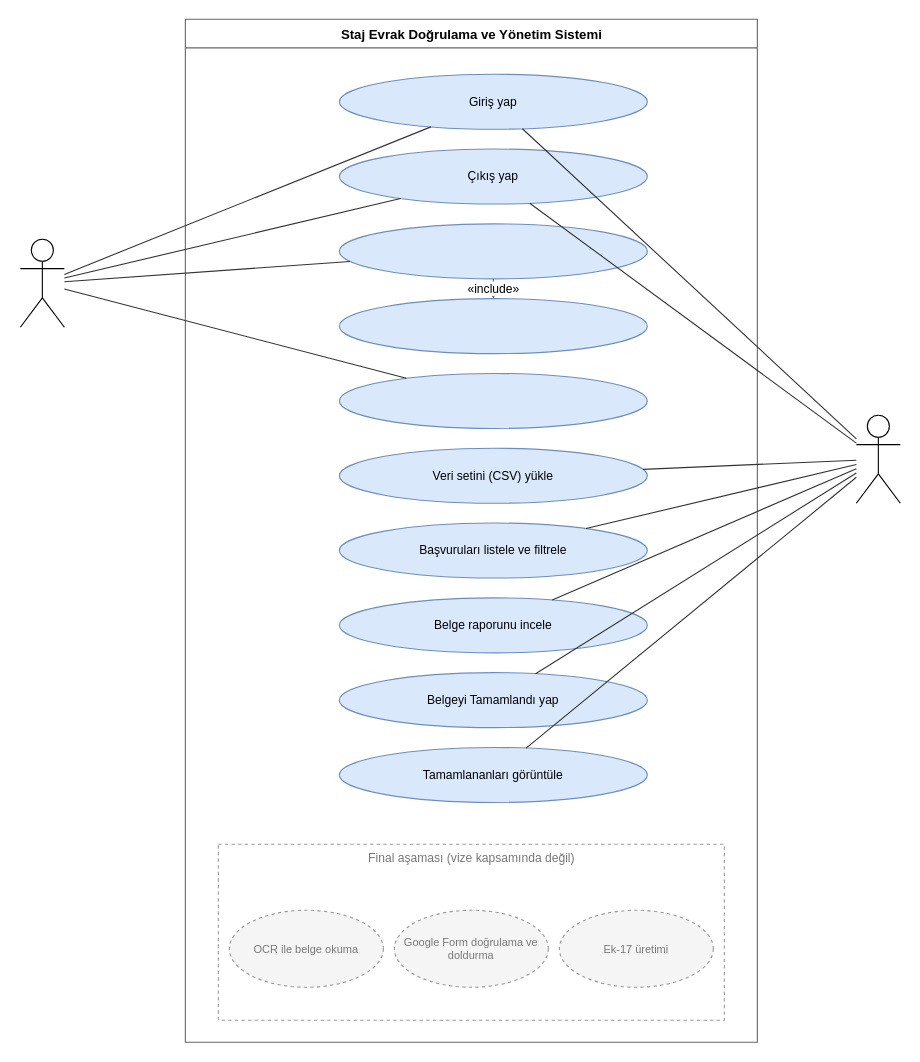
This 920x1062 diagram has some shape labels left out. The shapes that lost their labels are listed below. From the top down, each one's centre as x and y in pixels, then its label:
At point (492, 251): "Ek-16 belgesini yükle (haftalık günler dahil)".
At point (41, 282): "Öğrenci".
At point (492, 326): "Doğrulama kurallarını çalıştır".
At point (492, 400): "Kontrol raporunu görüntüle".
At point (877, 458): "Admin".
